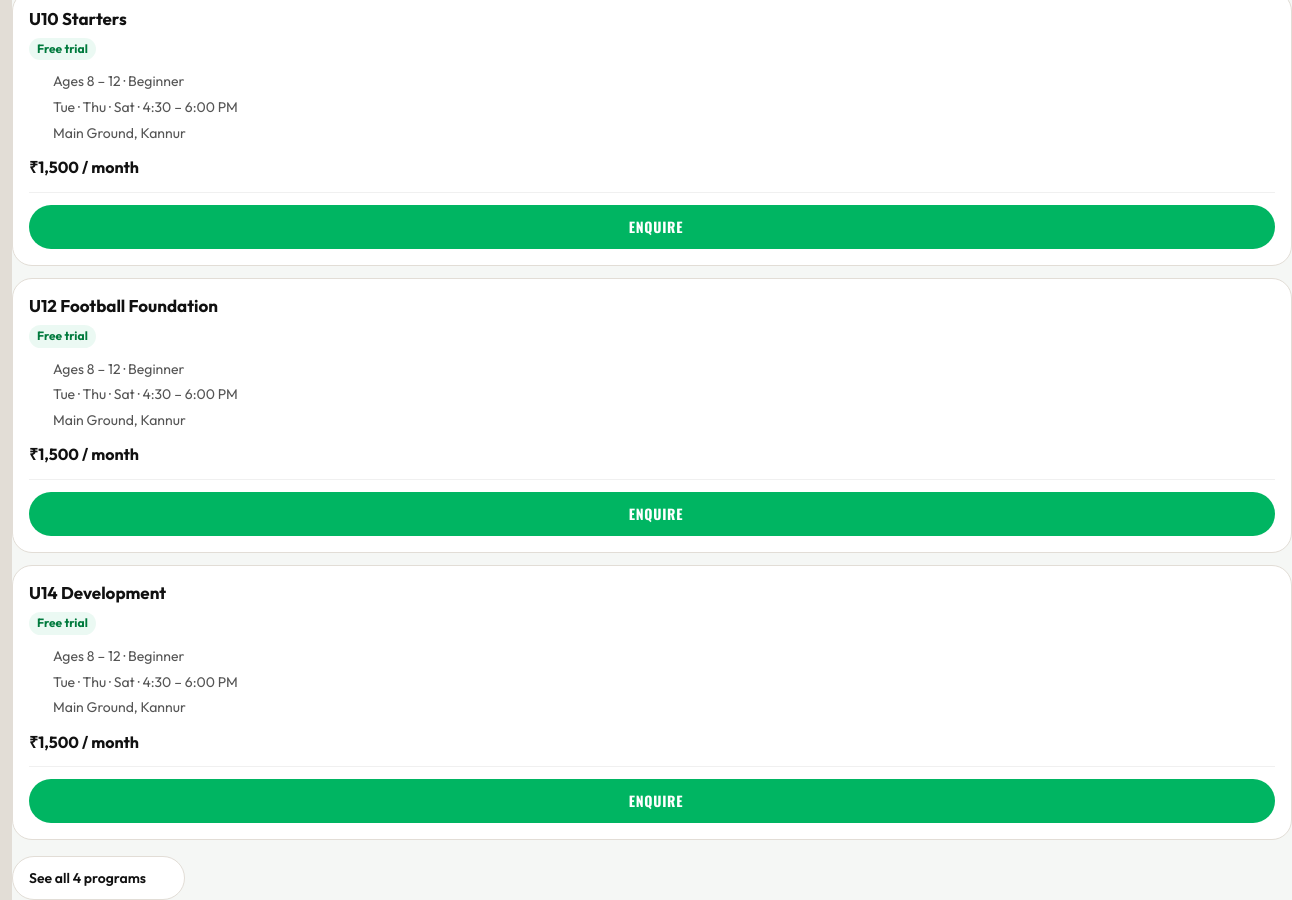
ProgramsSection › offers Enquire on each card, and Join the waitlist on a full one
(page scrolled)
Click the button "See all 4 programs". click: (98, 878)
box: [12,856,185,899]
(page scrolled)
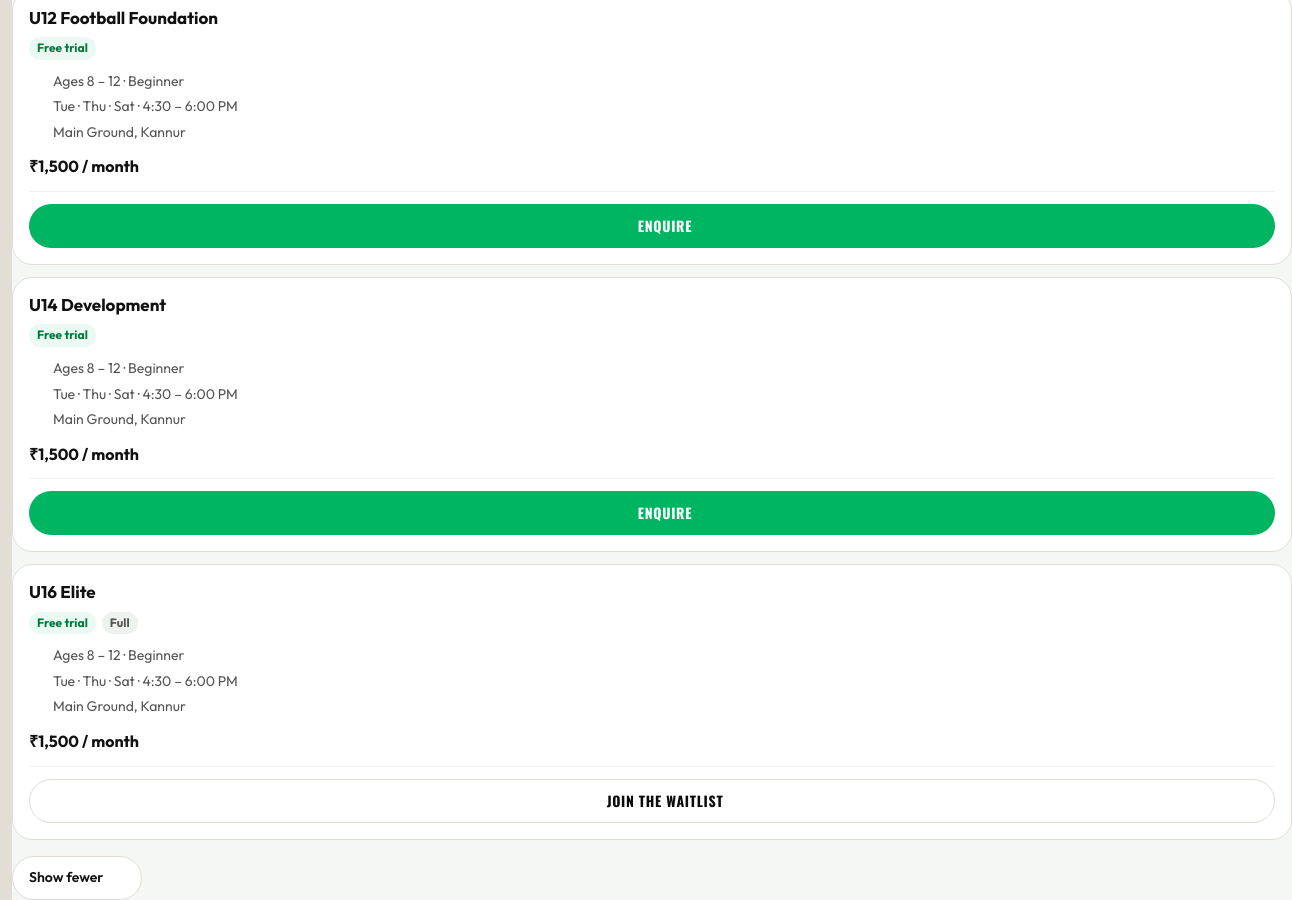
Check: the button with aria-label "Join the waitlist for U16 Elite" reads "Join the waitlist", box [29,779,1275,823]
